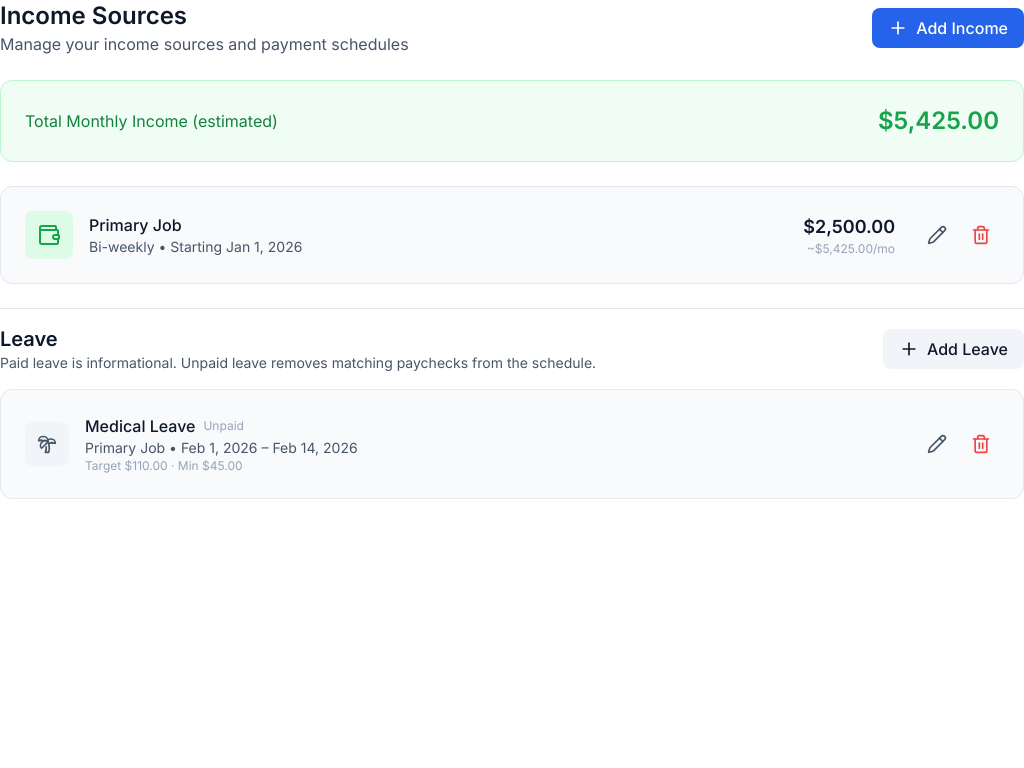
IncomePage › leave › prefills temporary cash fields when editing unpaid leave
Click the button named "Edit Medical Leave". click: (937, 444)
box: [919,426,955,462]
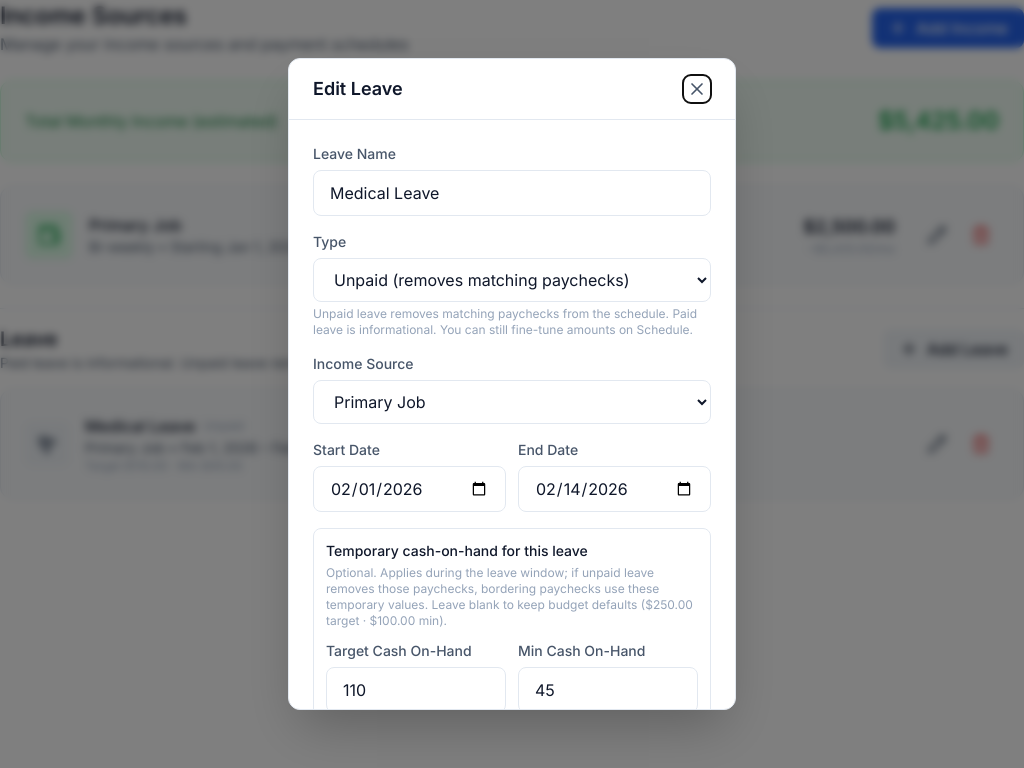
Expected: the dialog "Edit Leave" is shown, [288,58,736,710]
Expected: the number field labelled "Target Cash On-Hand" holds "110", [326,667,506,709]
Expected: the number field labelled "Min Cash On-Hand" holds "45", [518,667,698,709]
